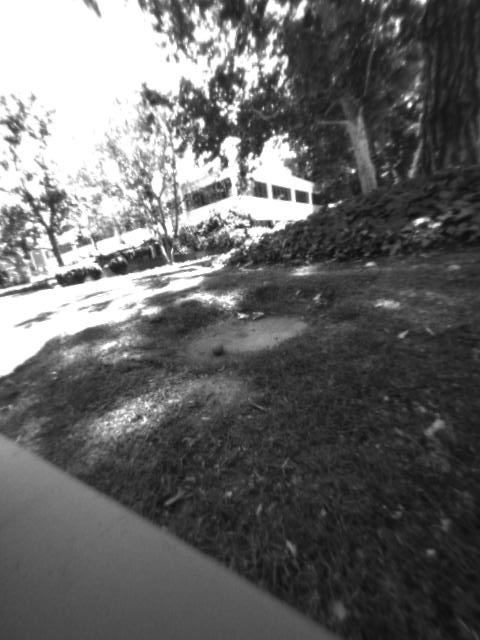dogtoy: (208, 338, 234, 361)
